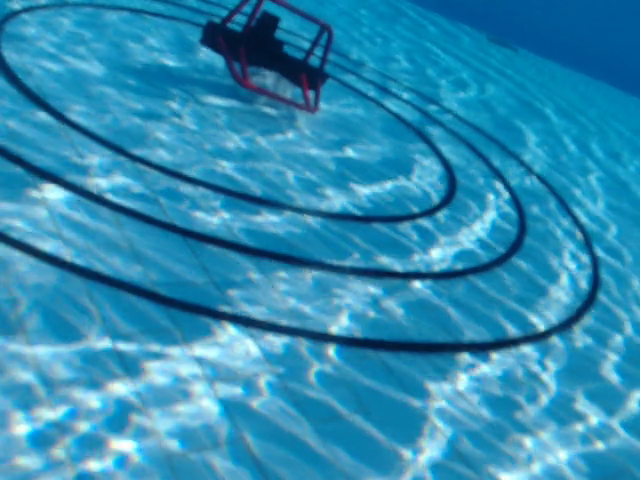submarine: (198, 1, 334, 116)
